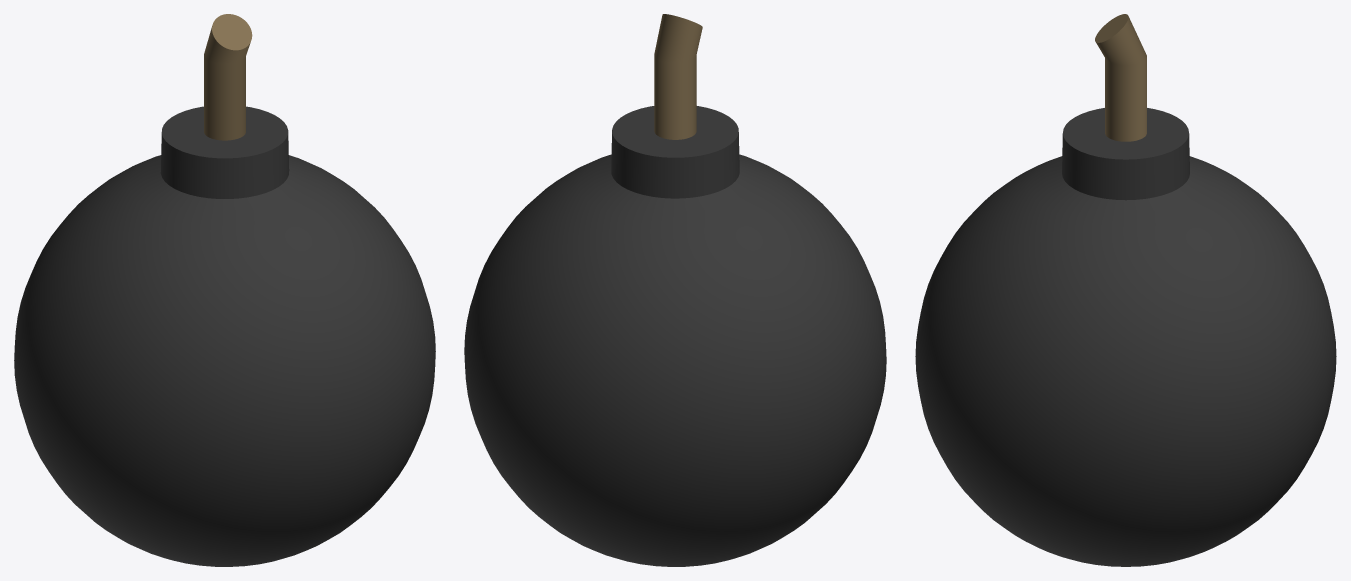
The model's file is bomb.fbx.
3 renders of one model, left to right at view 1: azimuth 30°, elevation 25°; view 2: azimuth 150°, elevation 25°; view 3: azimuth 270°, elevation 25°, orthographic.
Parts seen in each view (by area): view 1: pCylinder4; view 2: pCylinder4; view 3: pCylinder4.
Part boxes in pixels (left/top/right/bottom): pCylinder4: left=14, top=14, right=435, bottom=566; pCylinder4: left=464, top=14, right=886, bottom=566; pCylinder4: left=915, top=14, right=1336, bottom=566.
Size of the model in its own units: 10 by 13.9 by 10.
